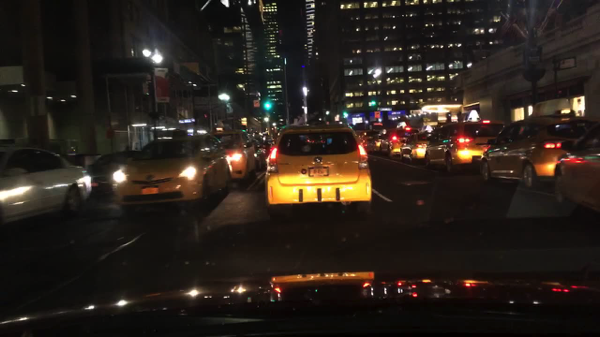car: (264, 123, 374, 224), (112, 132, 234, 223), (478, 112, 599, 190), (0, 144, 93, 228), (423, 109, 506, 176), (552, 123, 599, 216), (206, 129, 258, 187), (86, 149, 143, 200), (400, 125, 440, 165), (387, 120, 423, 160), (242, 139, 268, 171), (376, 128, 398, 156), (358, 130, 377, 153), (260, 133, 276, 147)
person: (253, 130, 260, 143), (250, 130, 255, 140)
traffic light: (264, 102, 272, 110), (371, 100, 376, 107), (342, 111, 347, 117)
traffic sign: (252, 99, 261, 109), (373, 111, 379, 118)
